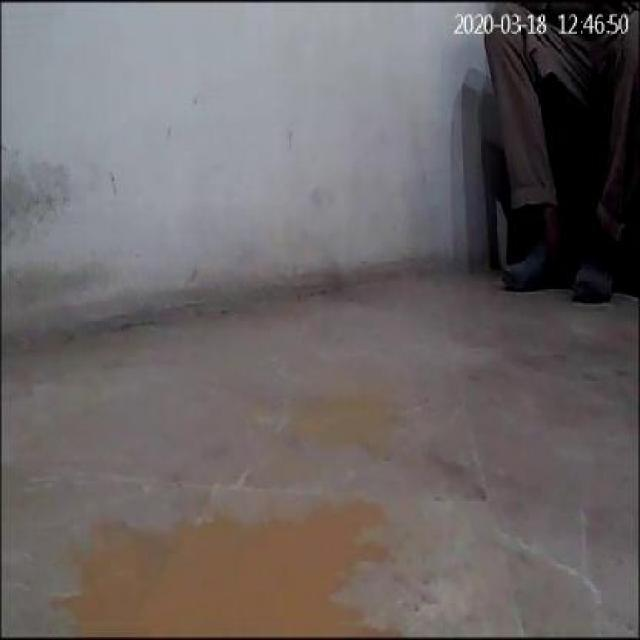spill: (58, 498, 402, 637)
